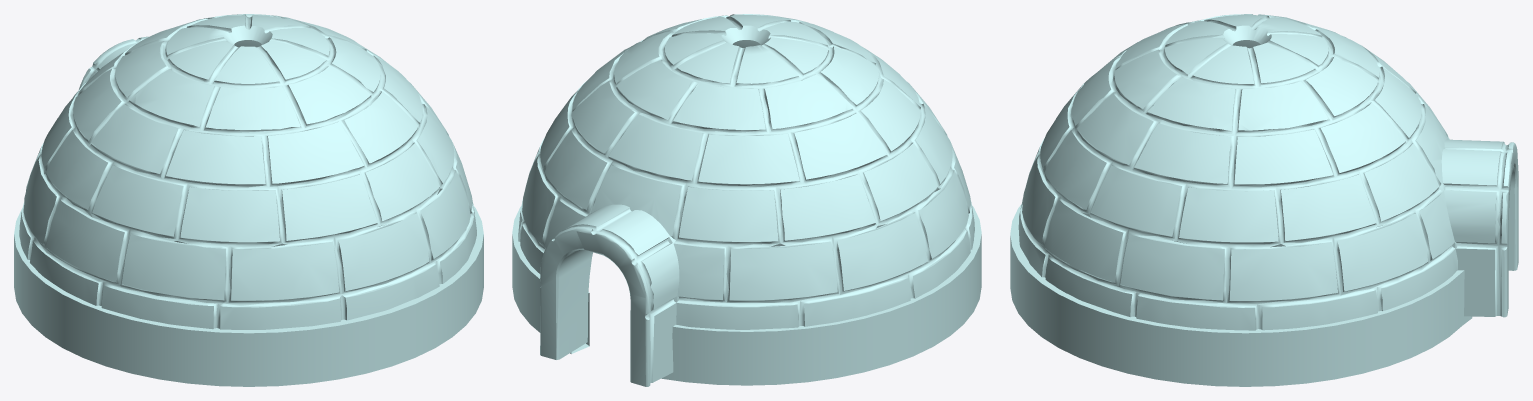
File: igloo.obj
3 views of the same model, side by side, from view 1: azimuth 30°, elevation 25°; view 2: azimuth 150°, elevation 25°; view 3: azimuth 270°, elevation 25° (orthographic).
Parts seen in each view (by area): view 1: Default009, Cylinder001; view 2: Default009, Cylinder001; view 3: Default009, Cylinder001.
Boxes of the visible parts, x1,y1,x2,y2 form: Default009: (19,14,476,329); Cylinder001: (14,206,483,386); Default009: (518,14,974,386); Cylinder001: (512,205,981,385); Default009: (1018,14,1518,330); Cylinder001: (1010,204,1472,386).
Bounding box in the file's own units: 25.04 × 14.77 × 27.08.
